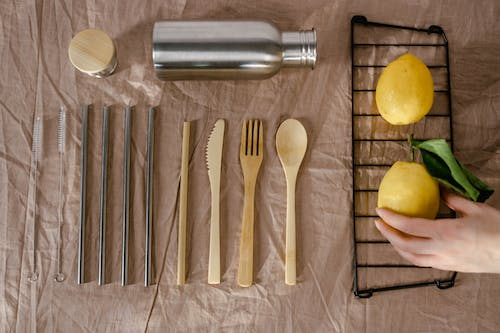knife: (204, 116, 228, 287)
